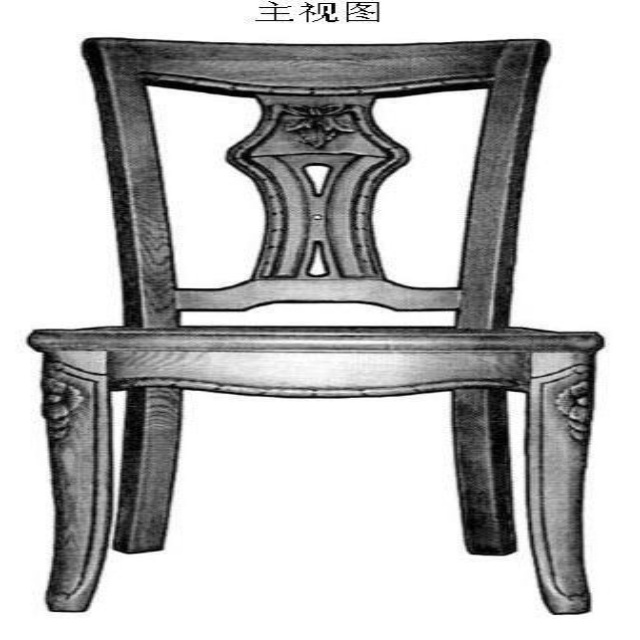obstacle: (29, 38, 600, 613)
